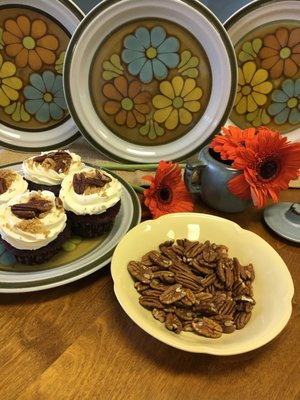sushi: (110, 211, 298, 357)
